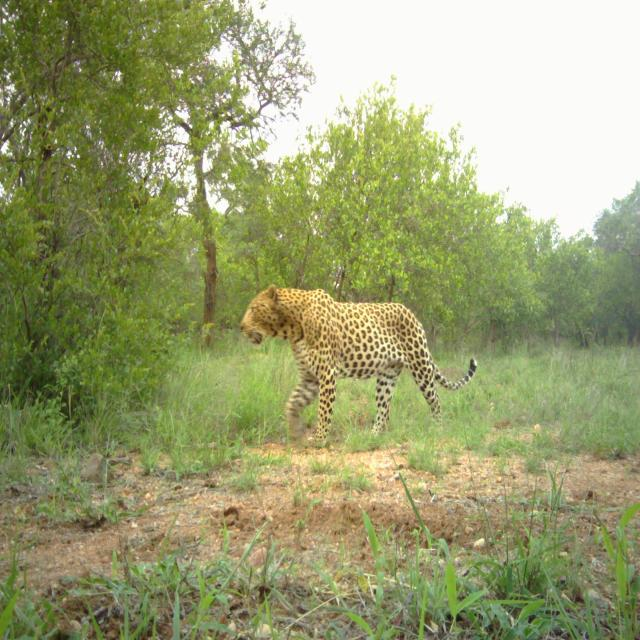Leopard: (243, 280, 486, 455)
